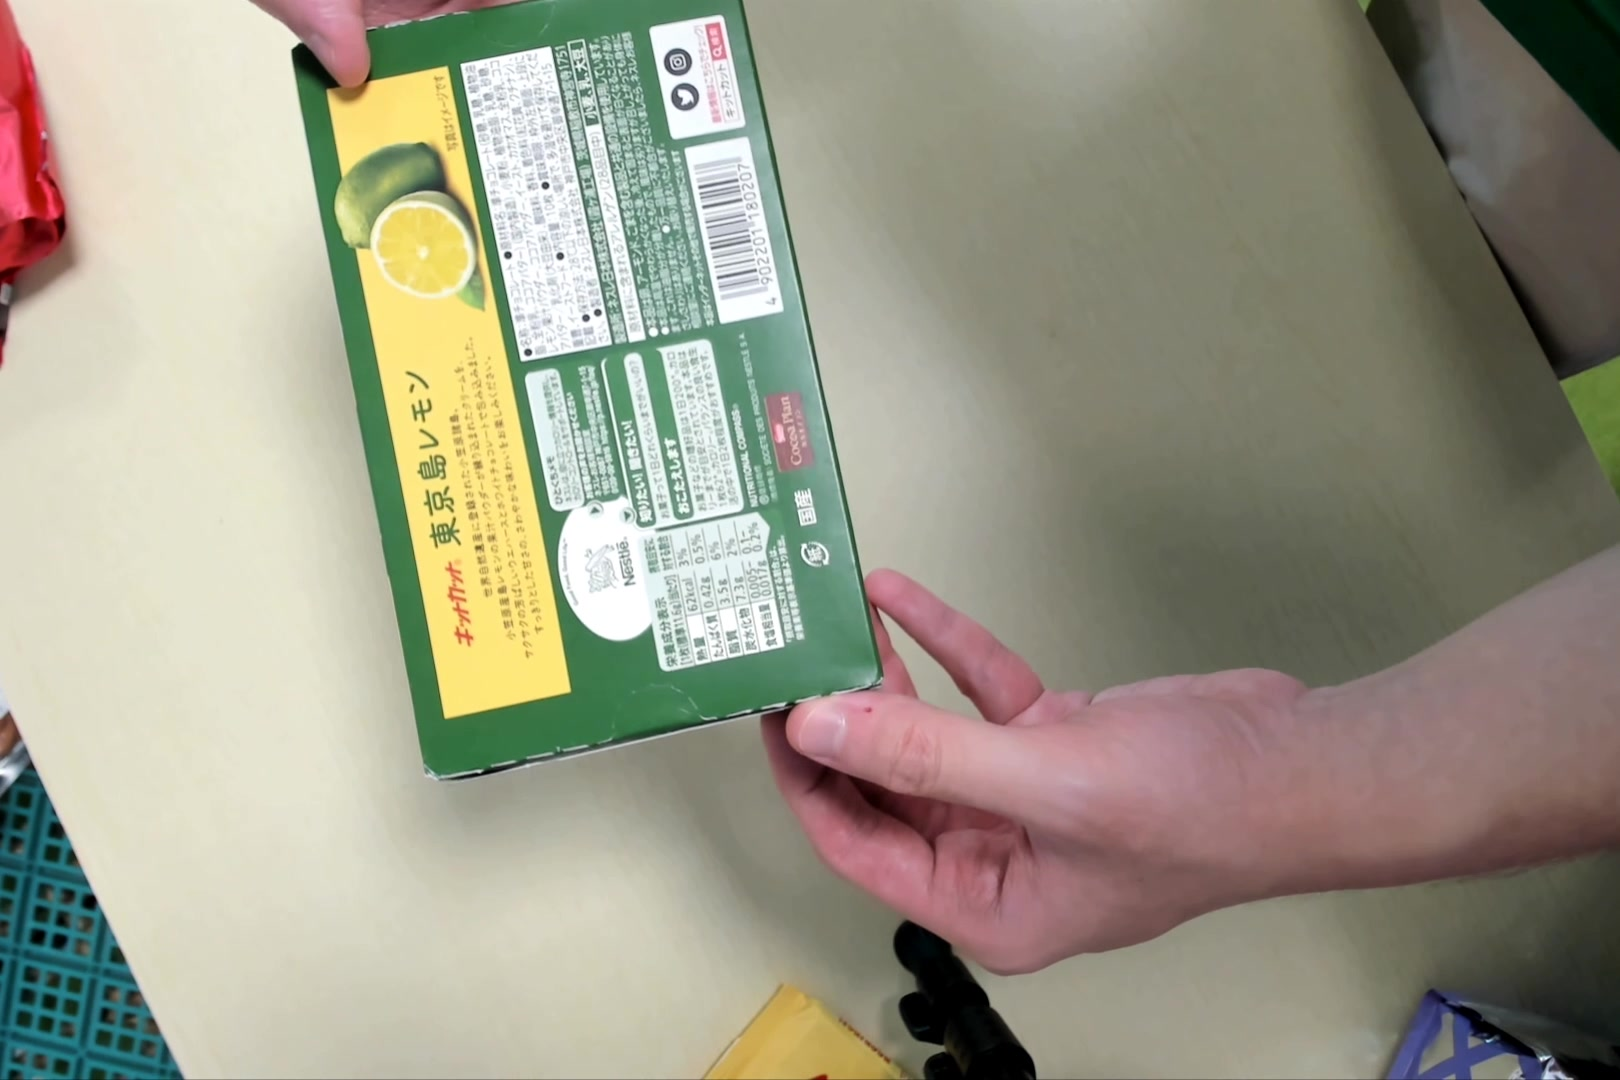SweetsChocolatesOthers_100-199g_NonHalal_NonHealthy: (297, 16, 879, 765)
